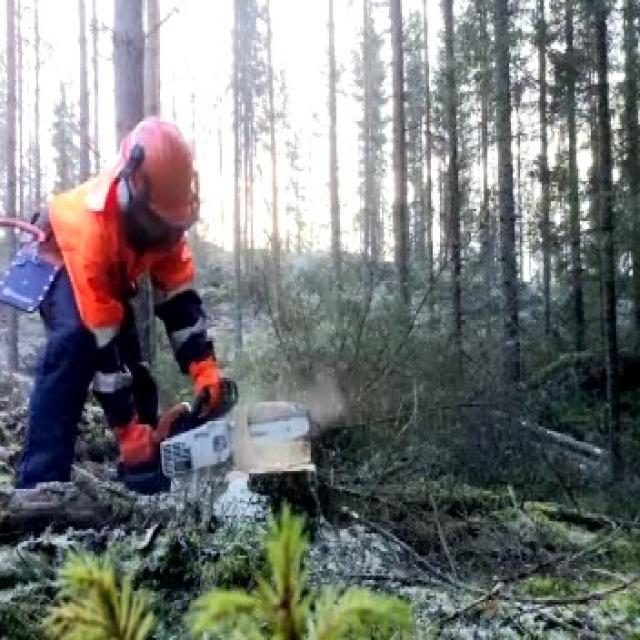Chainsaw: (126, 344, 335, 492)
